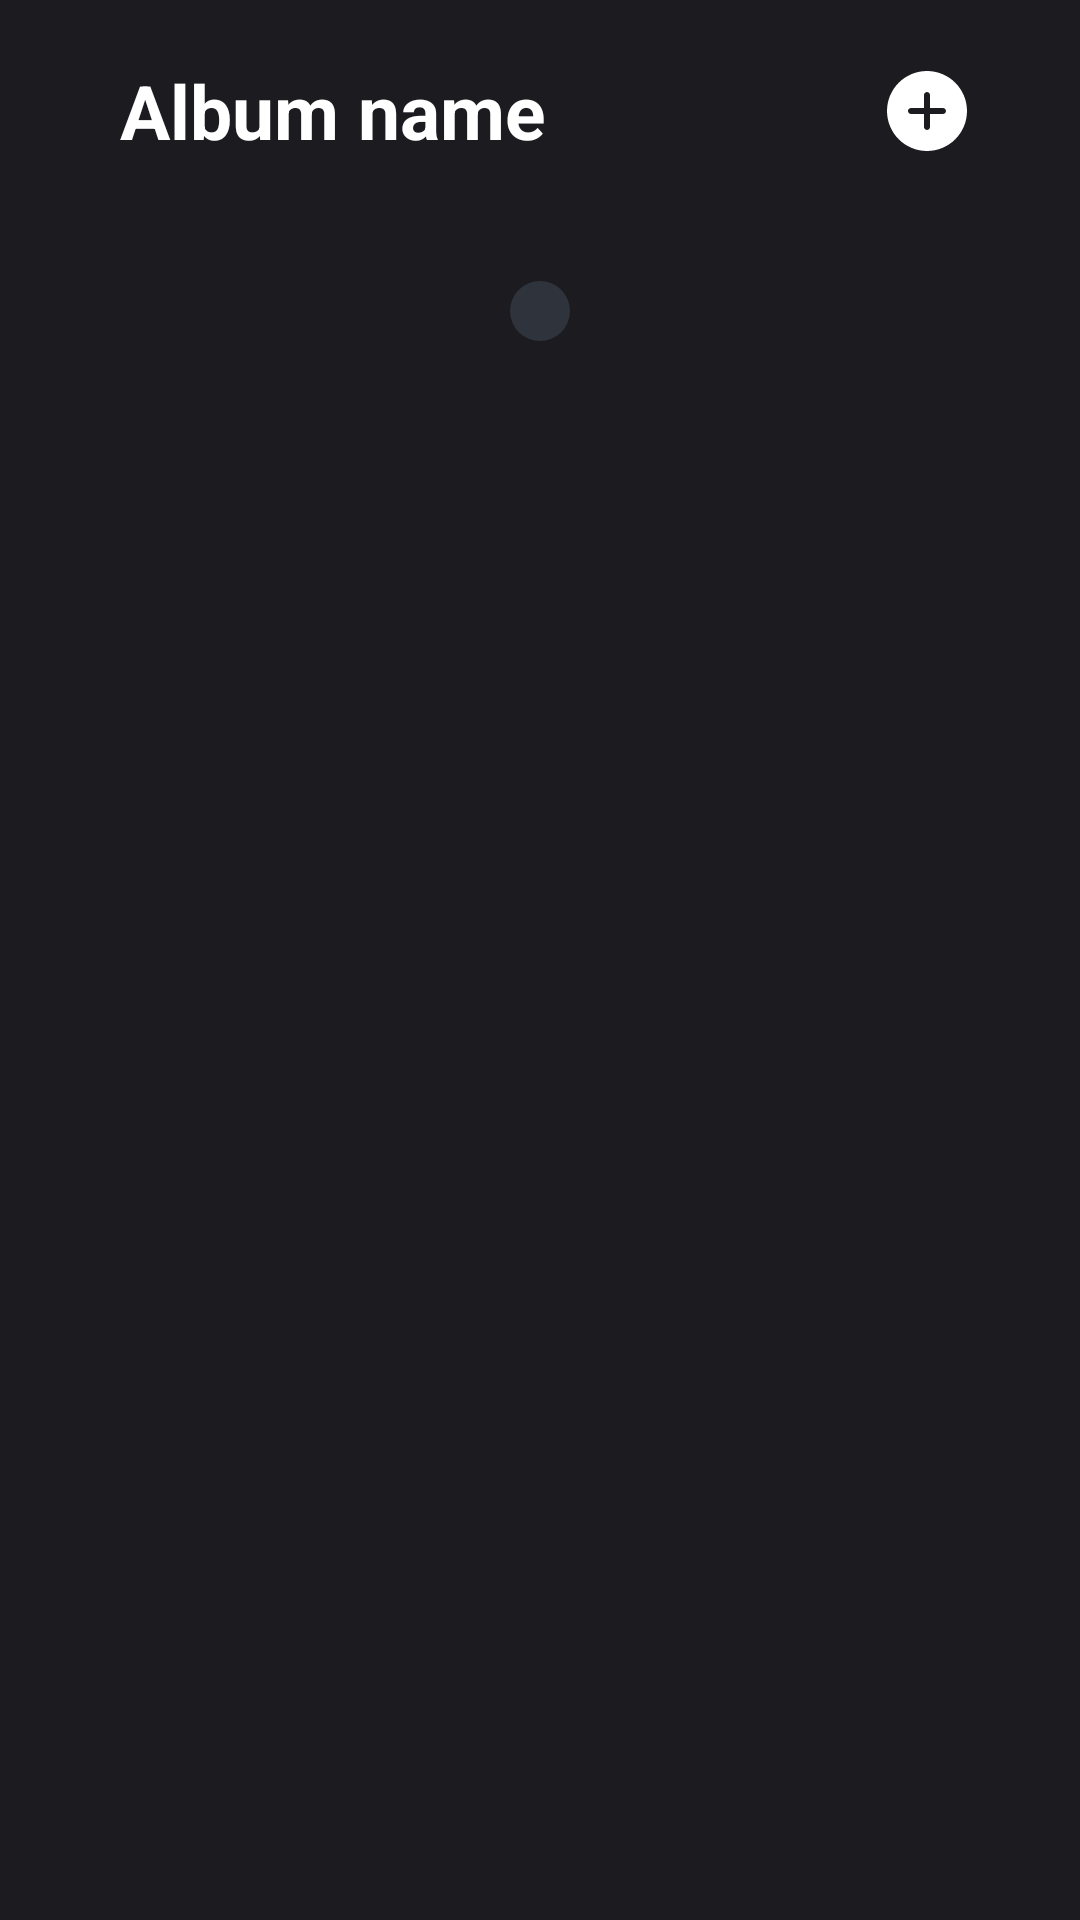

Named icons in this screenshot (1080*1920) and their bounding boxes, BBox(x1, y1, x2, y2):
addcircle: BBox(887, 71, 967, 151)
